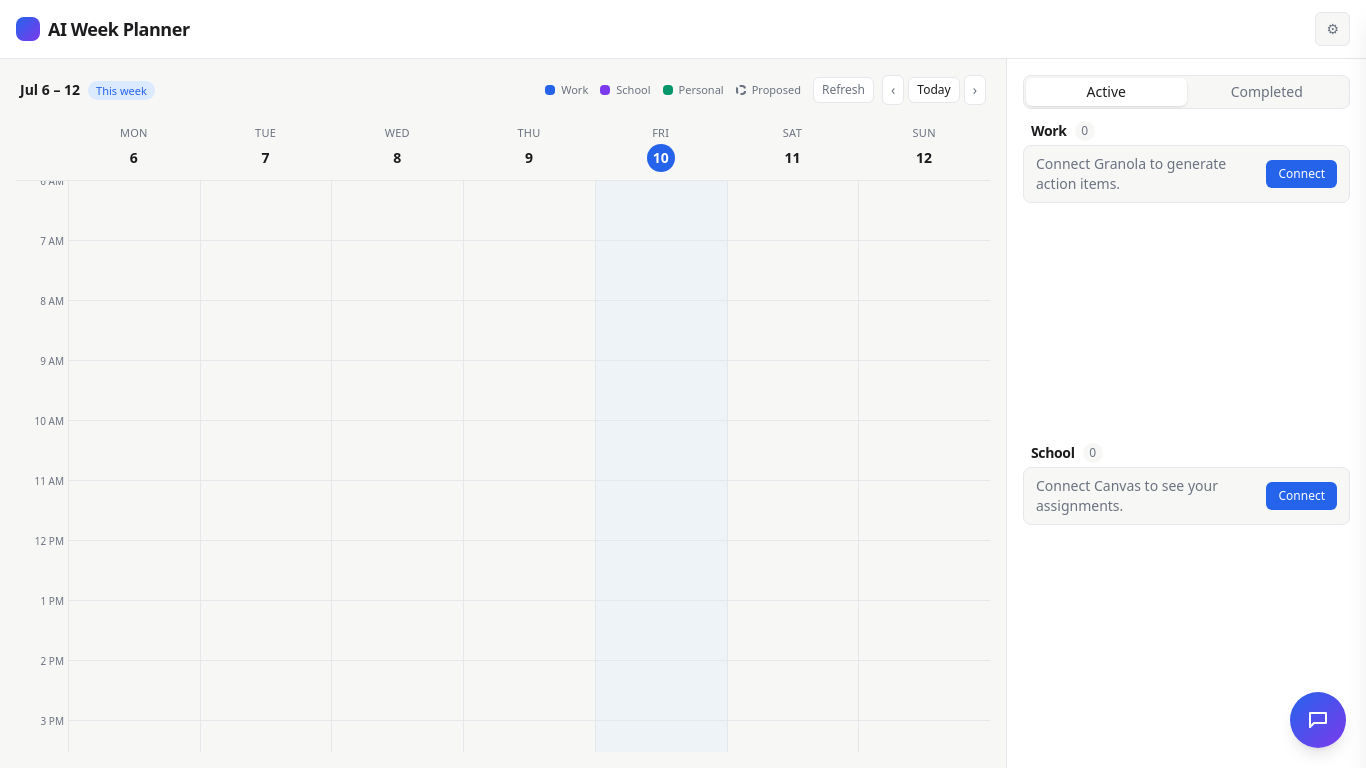
DashboardShell — planner loop › sends a request, renders the reply, and shows the proposal as dashed blocks
The image size is (1366, 768).
Click the button named "Open planner chat".
click(1318, 720)  # box x1=1290 y1=692 x2=1346 y2=748
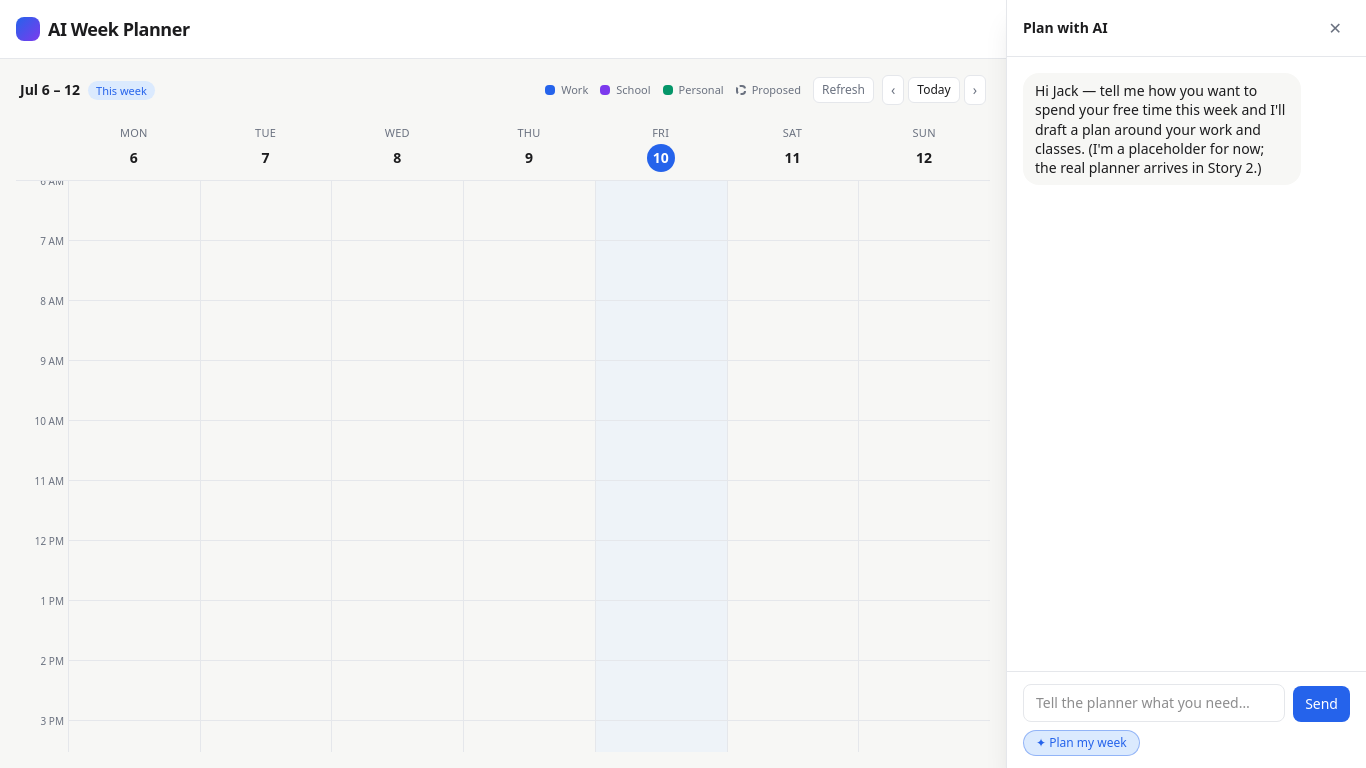
Click the button "✦ Plan my week".
click(1081, 743)  # box x1=1023 y1=730 x2=1140 y2=756
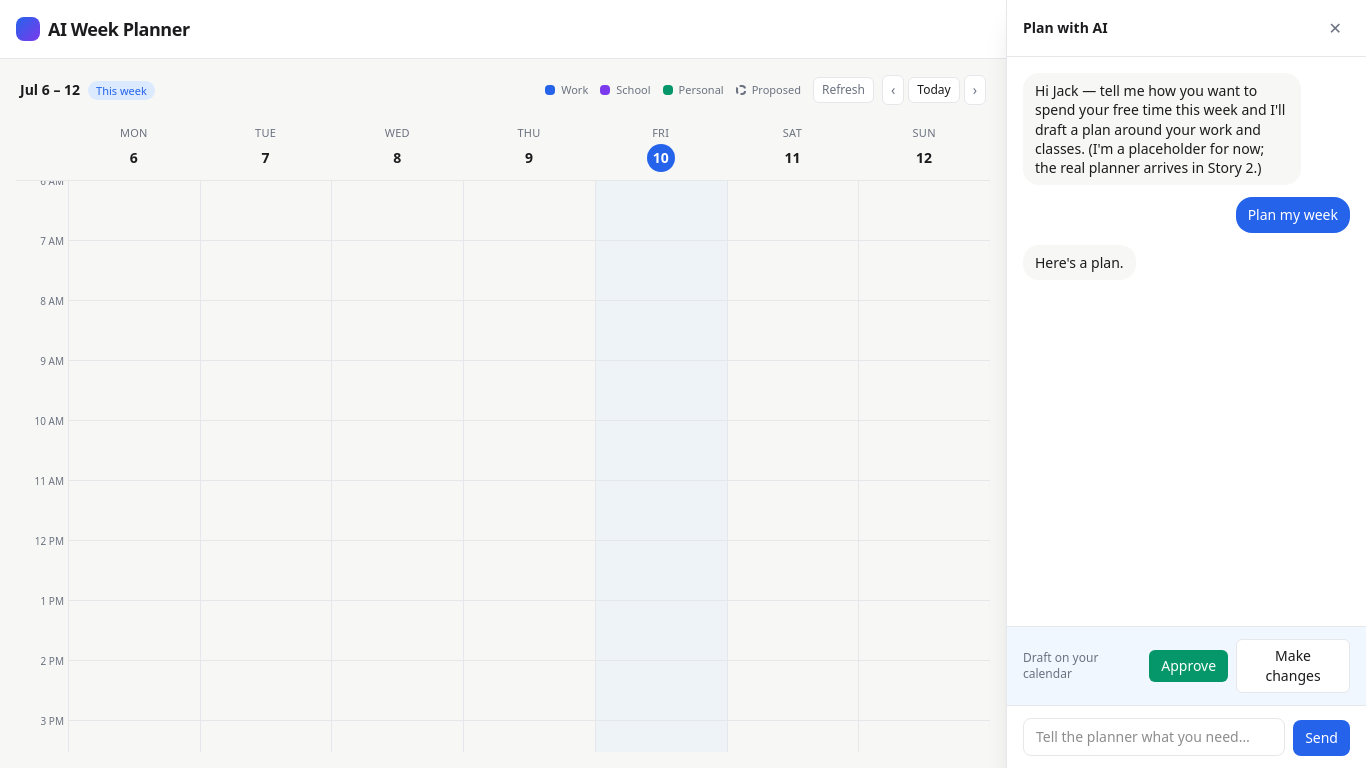
Result: the text "Here's a plan." is shown at x1=1023 y1=244 x2=1136 y2=280
